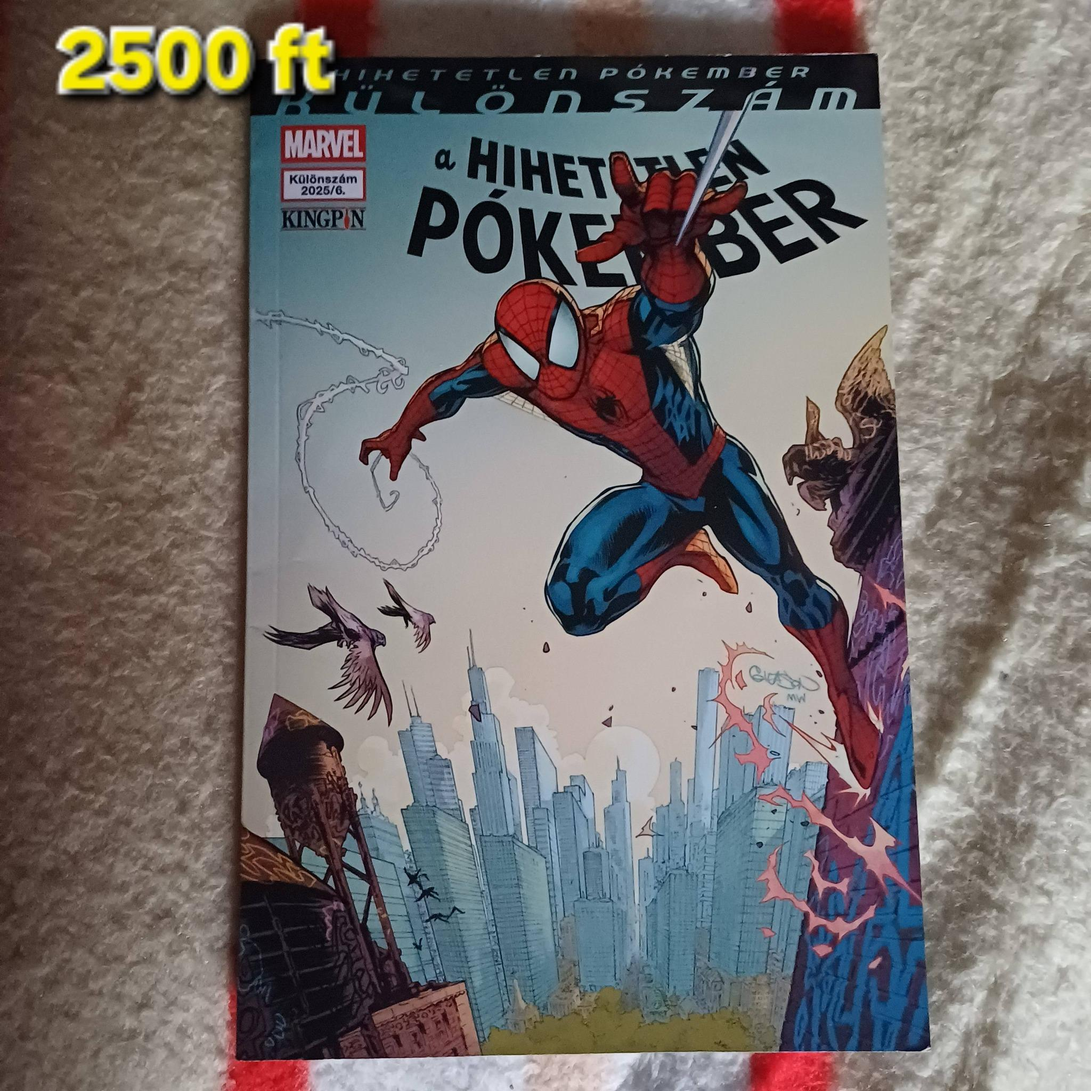comic: (228, 56, 928, 1059)
